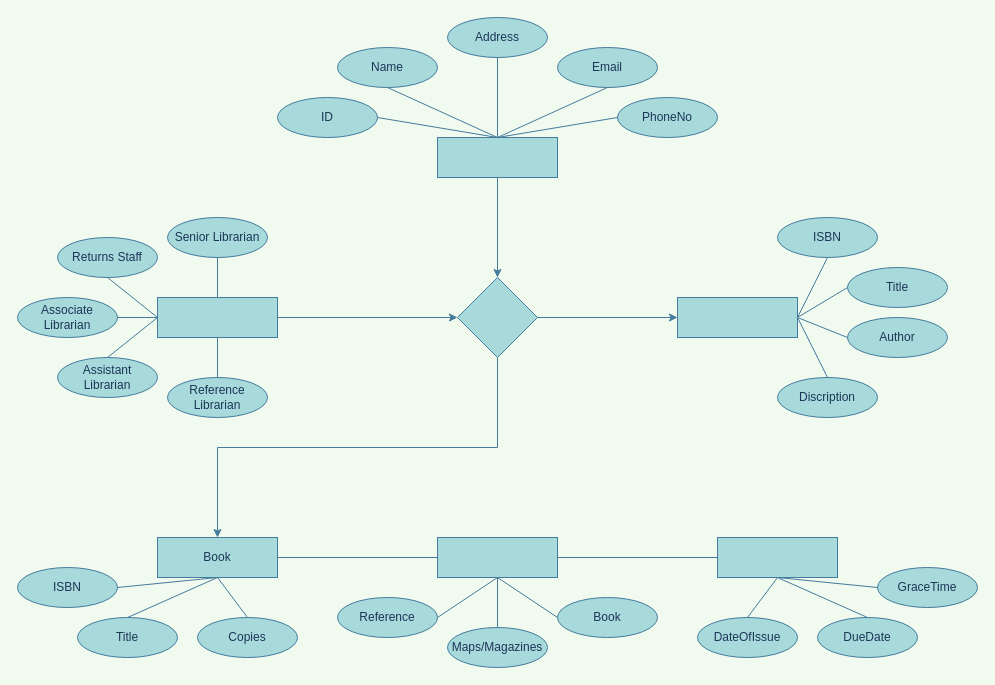
The diagram is 995 pixels wide and 685 high, and some of its shapes have lost their labels. Here are the shapes that lost their labels. From the top down, the box of each, then its label:
(436, 136, 558, 178): Member
(156, 296, 278, 338): Staffs
(456, 276, 538, 358): Can Access
(676, 296, 798, 338): Catalogue
(436, 536, 558, 578): Book Type
(716, 536, 838, 578): Borrow
